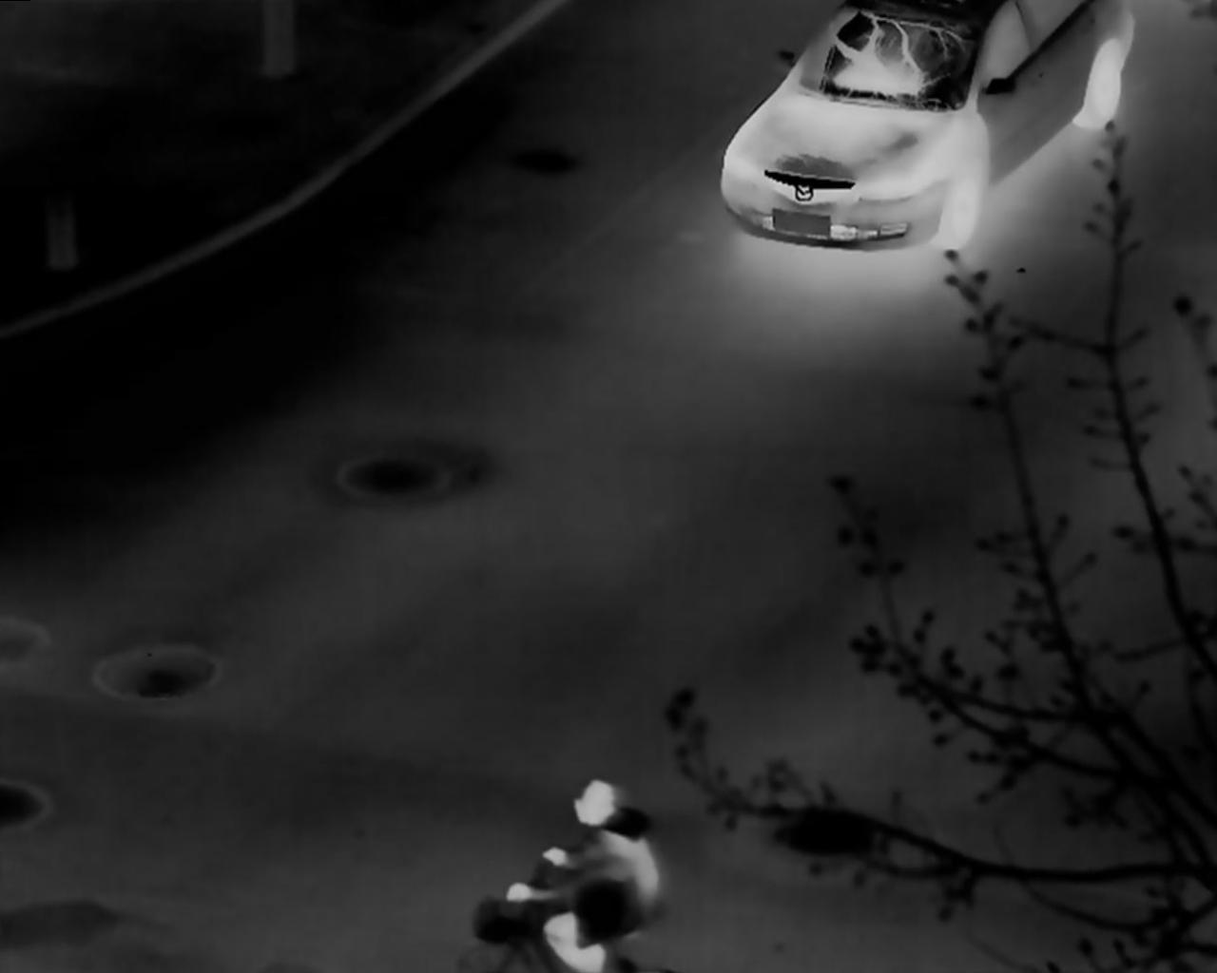person: (506, 779, 659, 973)
